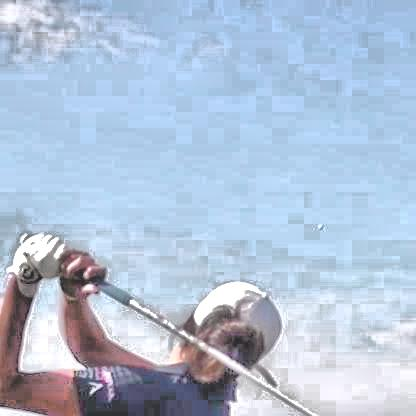golfball: (314, 220, 323, 228)
